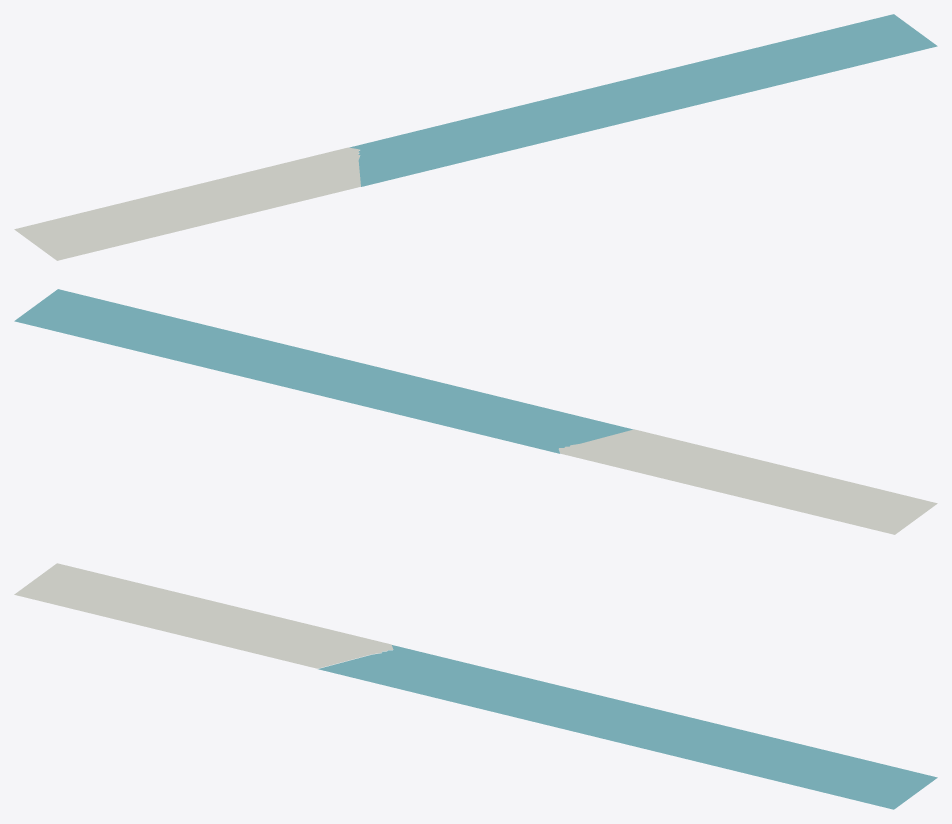
3 views of the same model, one above another, from view 1: azimuth 30°, elevation 25°; view 2: azimuth 150°, elevation 25°; view 3: azimuth 330°, elevation 25° (orthographic).
Visible parts, largest first — view 1: city; view 2: city; view 3: city.
Boxes of the visible parts, x1,y1,x2,y2 form: city: (14,14,937,260); city: (14,289,937,534); city: (14,563,937,809).
Bounding box in the file's own units: 500 × 0.18 × 43.33.
